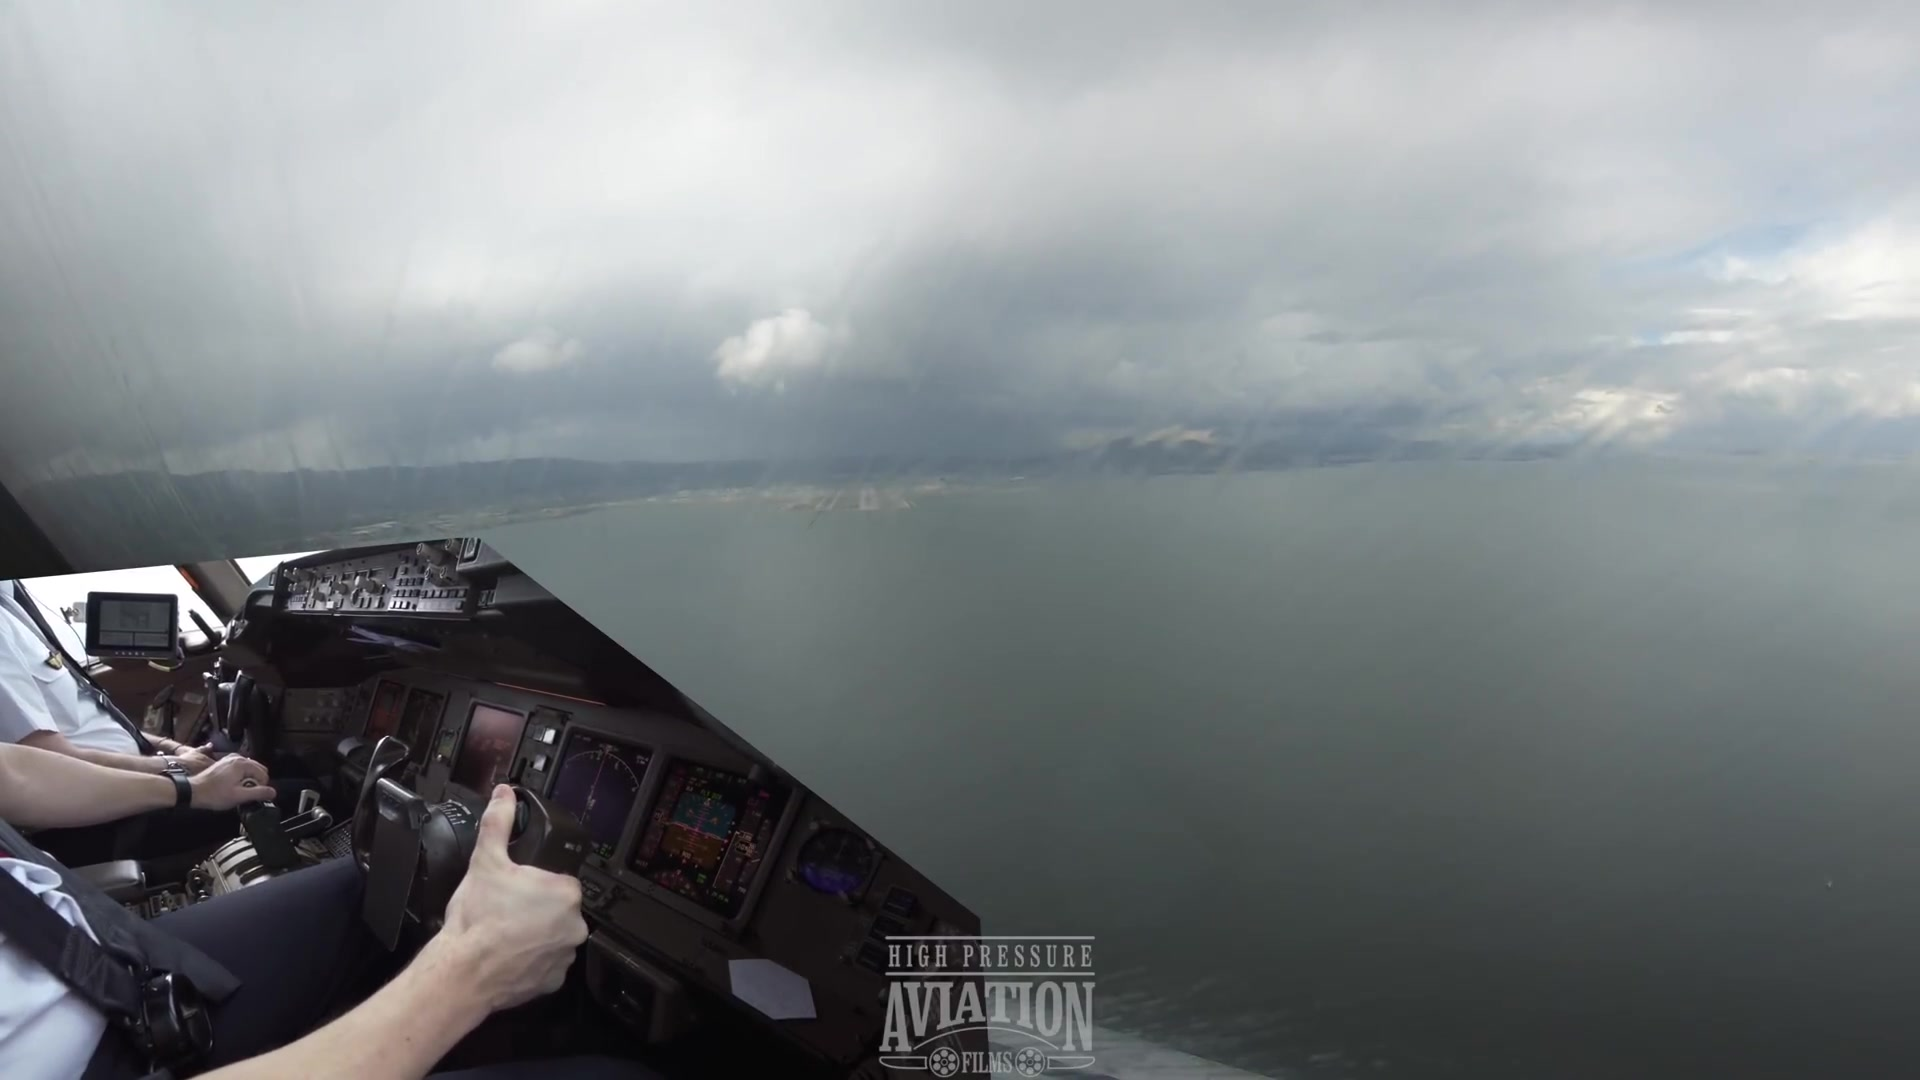runway: (886, 483, 918, 510), (857, 481, 882, 513)
